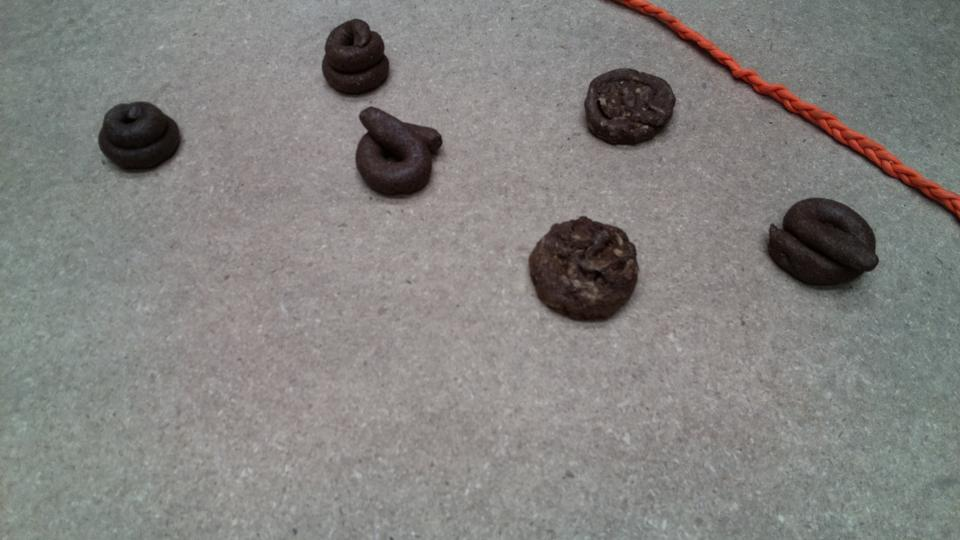poop: (525, 213, 643, 326), (762, 193, 883, 295), (350, 103, 447, 202), (581, 63, 678, 149), (94, 97, 186, 178), (318, 14, 395, 99)
rope: (627, 1, 959, 209)
